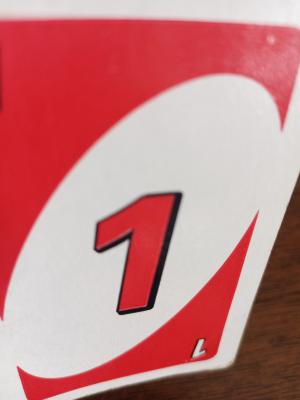num_1: (191, 327, 211, 364)
red: (1, 0, 300, 400)
